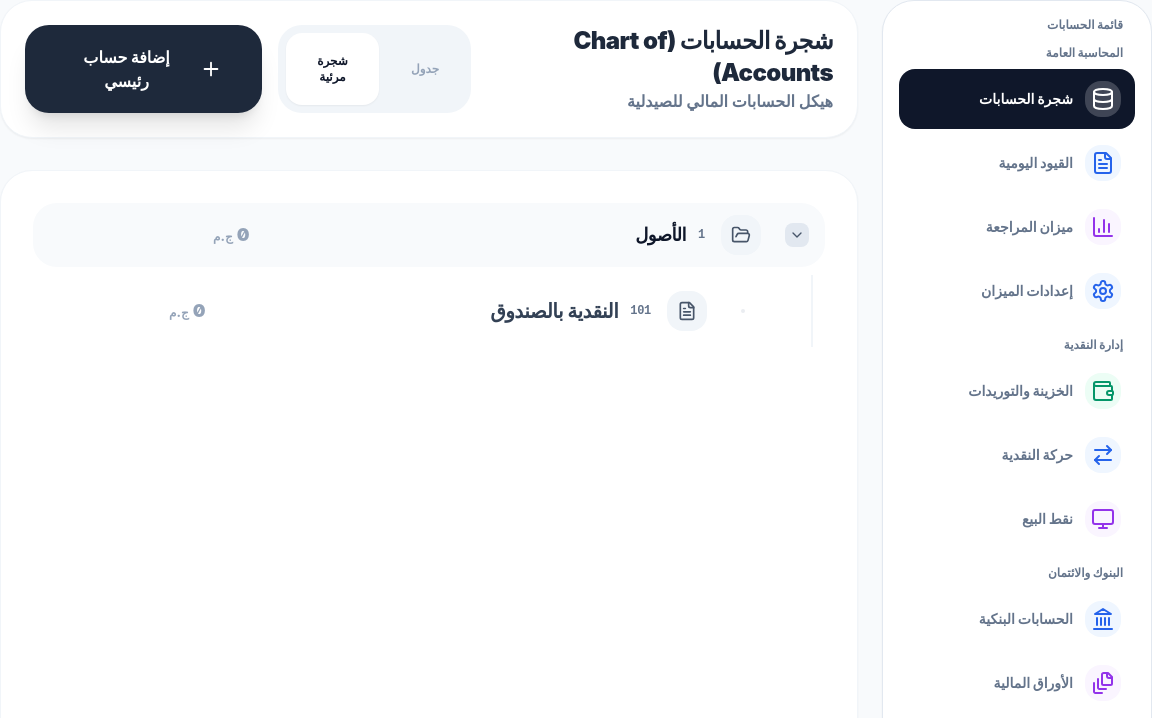
Exhaustive Testing: Financials, Handover, Shift, and Receipt Modules › 1. Financials Domain (الإدارة المالية والحسابات وميزان المراجعة) › navigates through AccountsManagementClient tabs and loads chart of accounts
The width and height of the screenshot is (1152, 718).
Expected: the heading "شجرة الحسابات (Chart of Accounts)" is shown, x1=573 y1=26 x2=833 y2=87
Expected: the heading "الأصول" is shown, x1=635 y1=221 x2=686 y2=249
# Switch tab to POS Management
Click the button "نقط البيع".
click(1017, 519)  # box x1=899 y1=489 x2=1135 y2=549
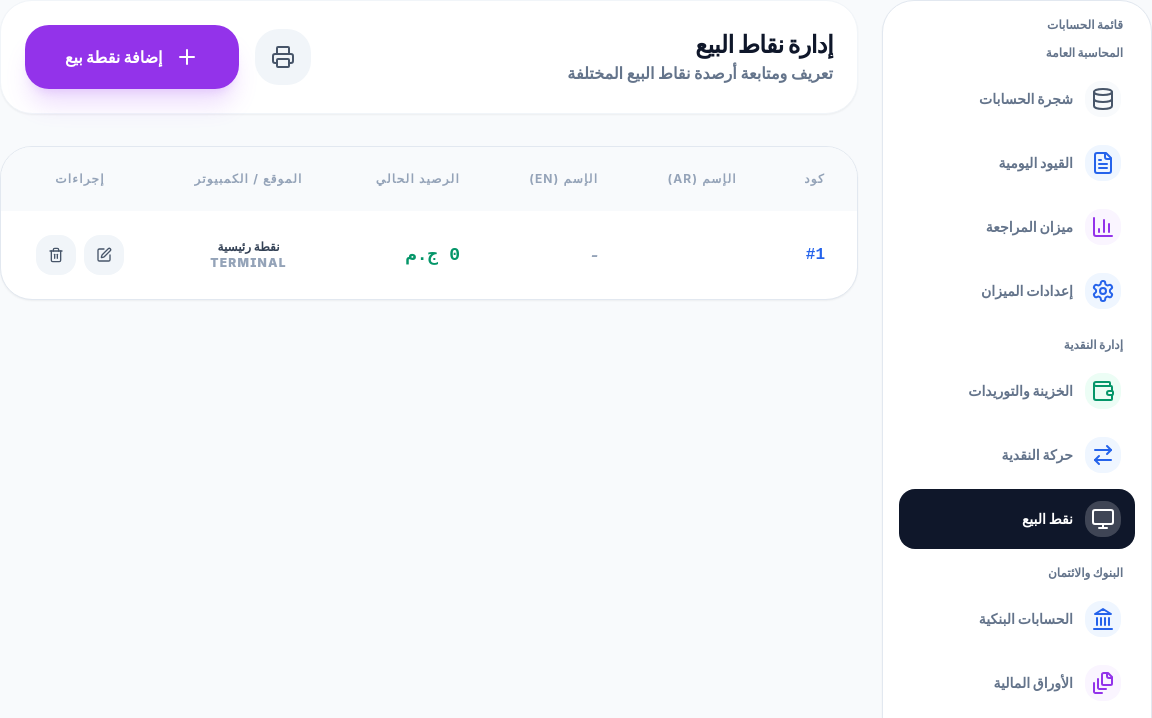
Expected: the heading "إدارة نقاط البيع" is shown, x1=695 y1=30 x2=833 y2=59
